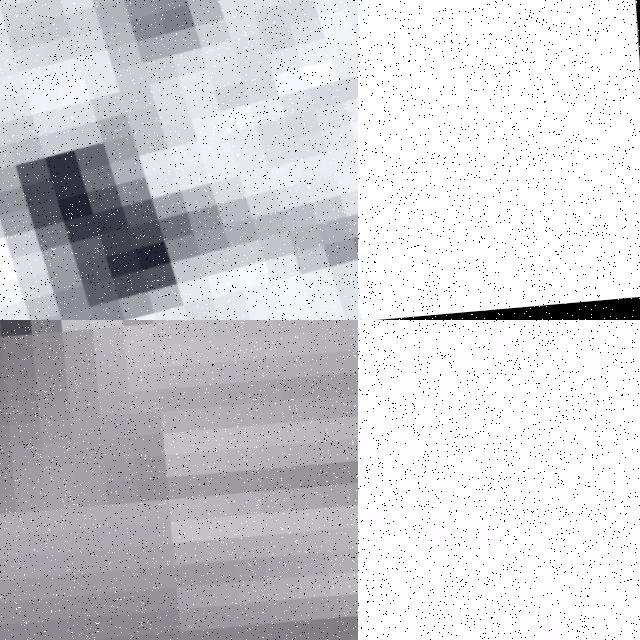drone: (0, 0, 358, 320), (358, 0, 640, 320)
